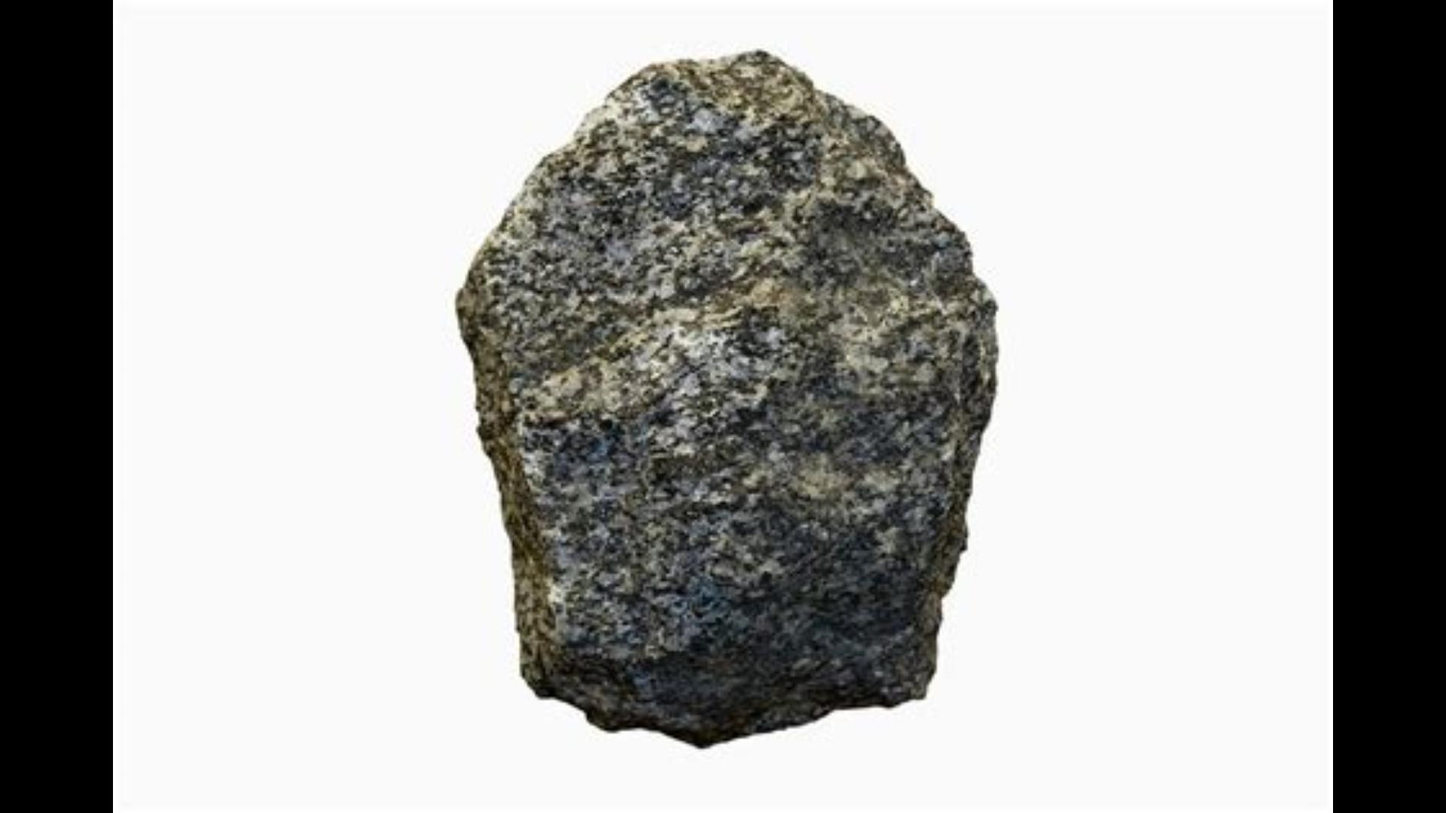rock: (458, 51, 993, 741)
